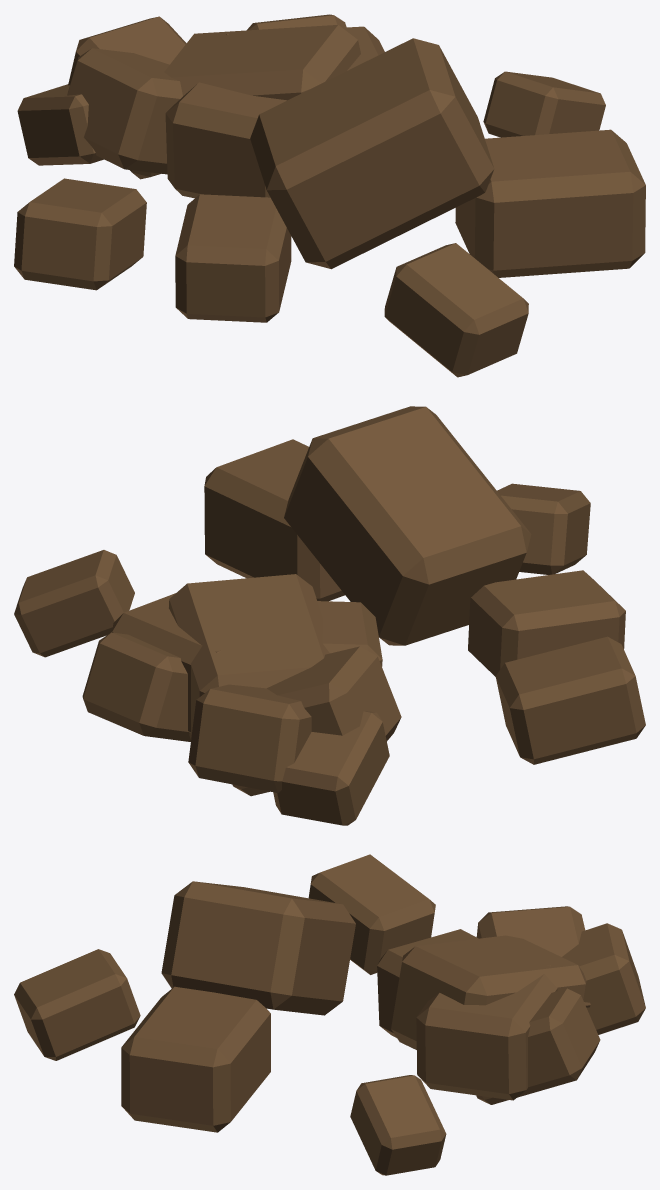
File: prop_rubbletrue_ba93.glb
3 renders of one model, top to bottom at view 1: azimuth 30°, elevation 25°; view 2: azimuth 150°, elevation 25°; view 3: azimuth 270°, elevation 25°, orthographic. The views are drawn at different scales.
Visible parts, largest first — view 1: prop_rubbletrue_ba93; view 2: prop_rubbletrue_ba93; view 3: prop_rubbletrue_ba93.
Part boxes in pixels (bbox=[...]): prop_rubbletrue_ba93: bbox=[14, 14, 645, 377]; prop_rubbletrue_ba93: bbox=[14, 406, 645, 825]; prop_rubbletrue_ba93: bbox=[14, 854, 645, 1175].
Bounding box in the file's own units: 0.9507 × 0.321 × 0.9942.
Materials: 1 (1 with a texture image).
